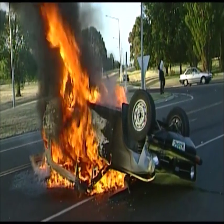fire_h: (39, 1, 111, 184), (90, 170, 126, 195), (47, 169, 75, 189)
fire_l: (114, 83, 127, 108), (42, 128, 49, 150), (40, 156, 50, 170)
